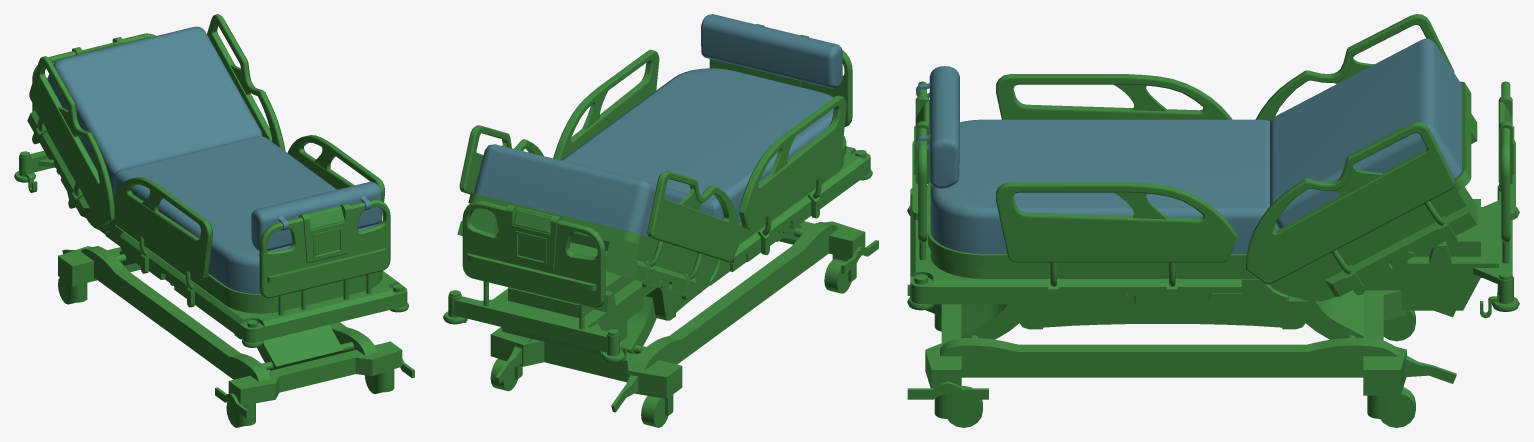
Rendered from SM_HospitalBed_01c.FBX.
The picture shows the model from 3 angles, left to right: view 1: azimuth 30°, elevation 25°; view 2: azimuth 150°, elevation 25°; view 3: azimuth 270°, elevation 25°; orthographic projection. The views are drawn at different scales.
Parts seen in each view (by area): view 1: SM_HospitalBed_01c_LOD0; view 2: SM_HospitalBed_01c_LOD0; view 3: SM_HospitalBed_01c_LOD0.
Boxes of the visible parts, x1,y1,x2,y2 form: SM_HospitalBed_01c_LOD0: (14, 14, 414, 427); SM_HospitalBed_01c_LOD0: (443, 14, 878, 427); SM_HospitalBed_01c_LOD0: (907, 14, 1519, 427).
Size of what is drawn, in the model's own units: 111 by 143 by 255.
